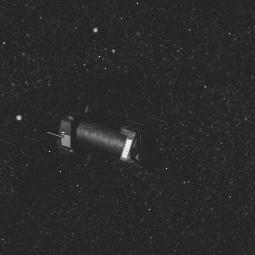xmm_newton: (29, 107, 148, 179)
